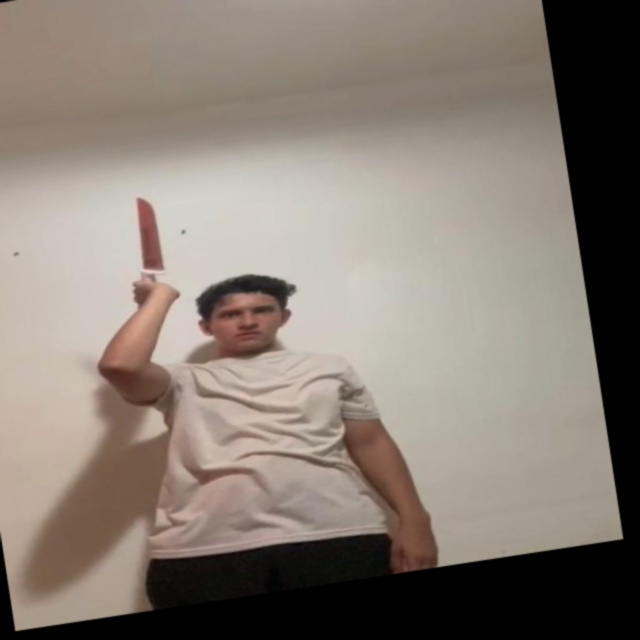Sharp-Object: (129, 194, 173, 279)
